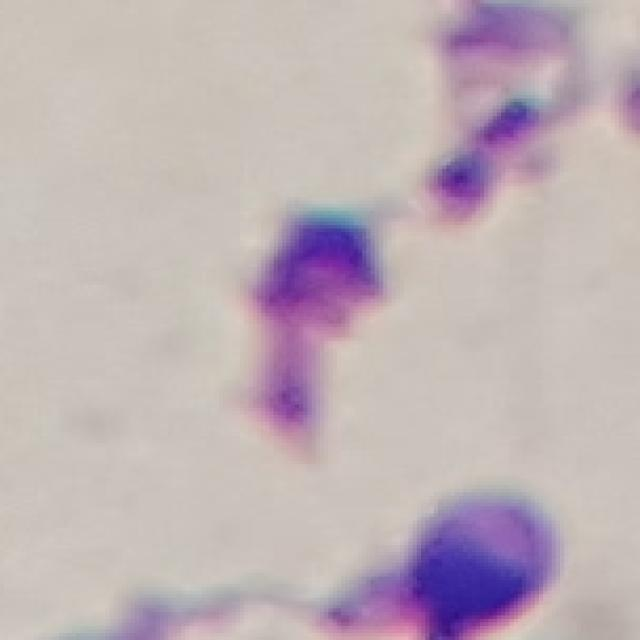non-sperm: (125, 486, 564, 628), (189, 172, 394, 449)
